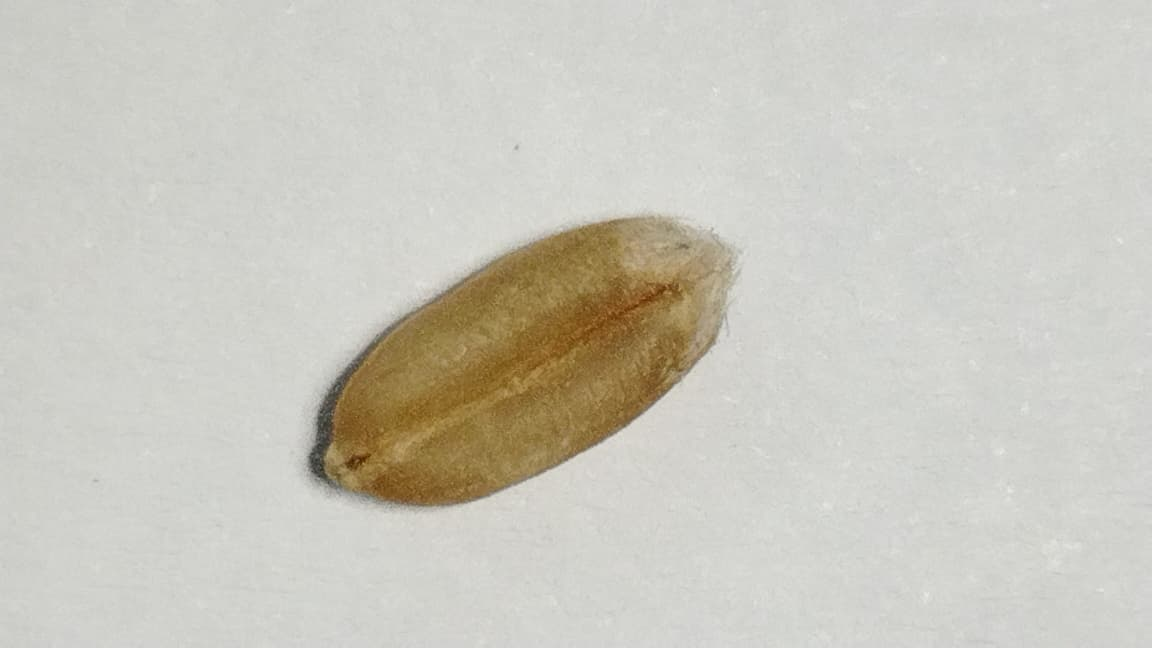healthy: (311, 213, 733, 511)
